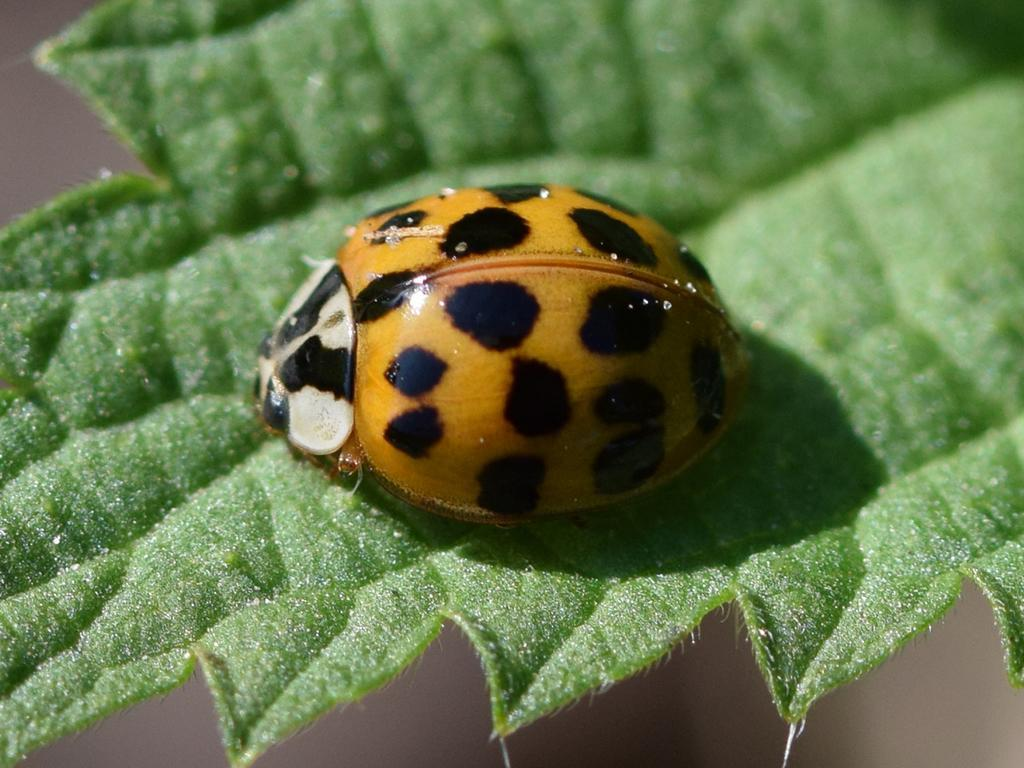ladybug: (257, 181, 757, 533)
